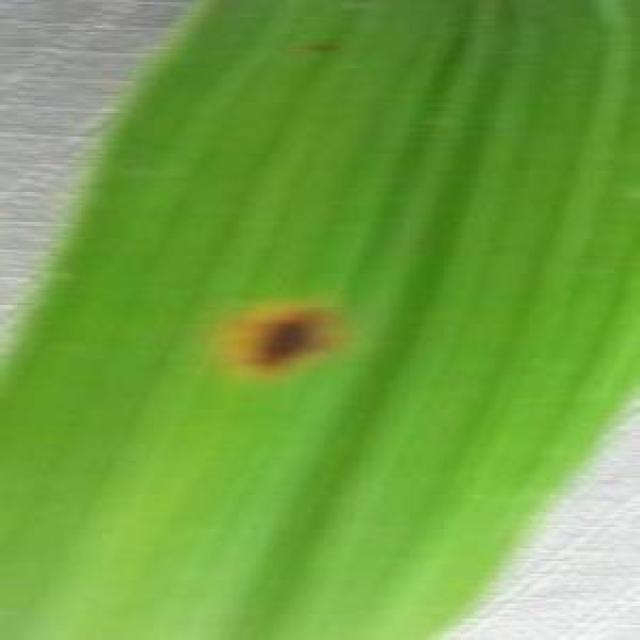Brown_Spot: (222, 298, 332, 382)
